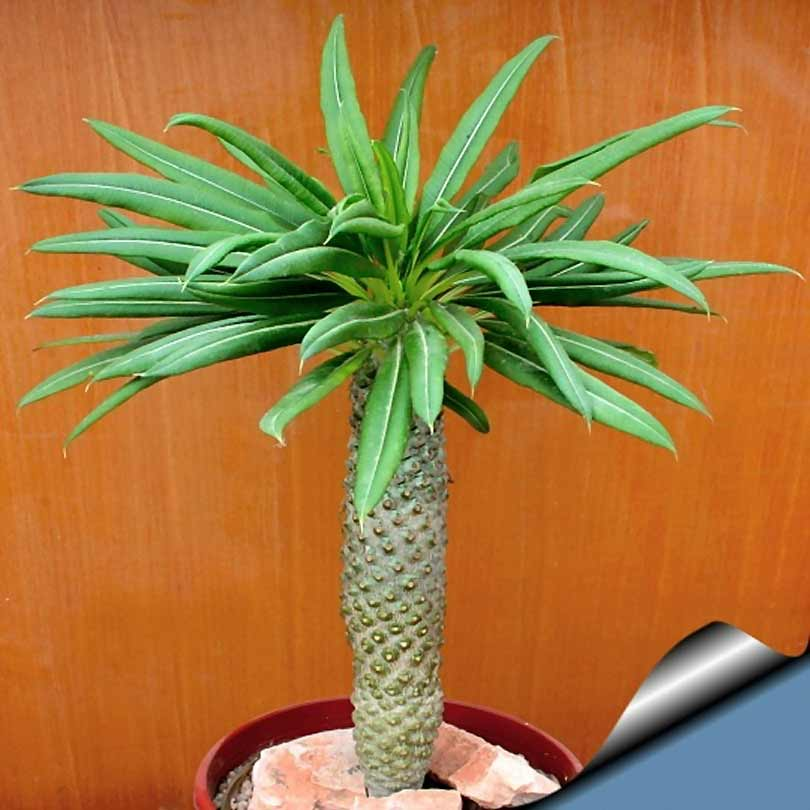Pachypodium lamerei Drake: (216, 107, 645, 783)
